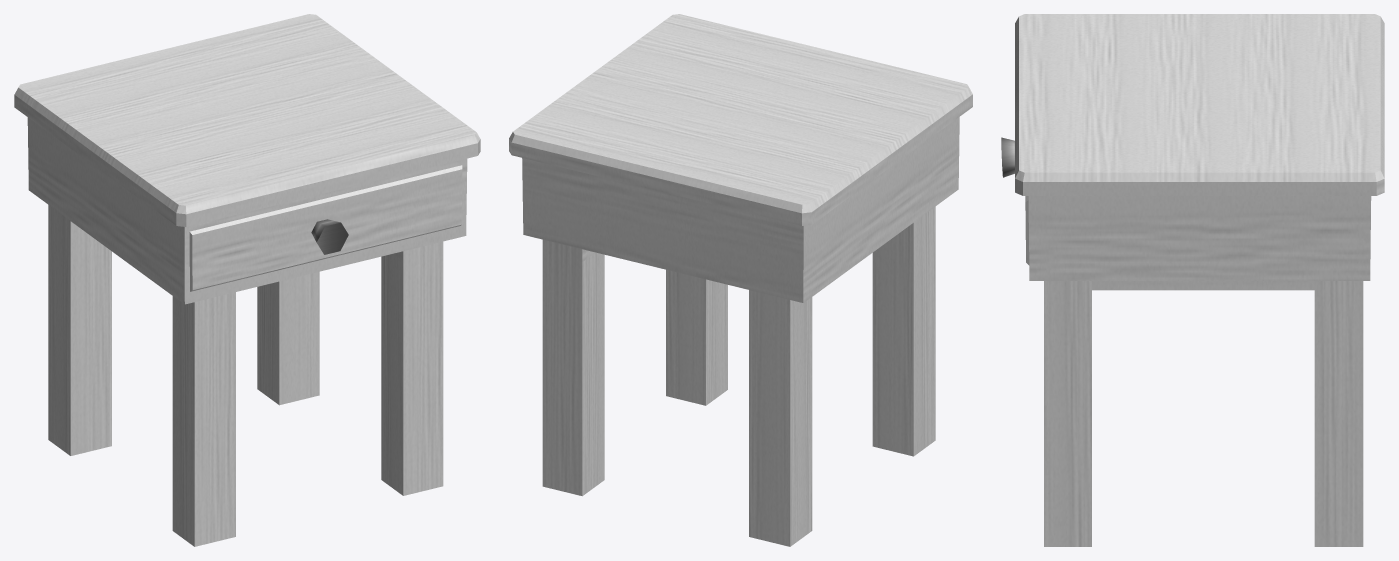
File: Basic_Endtable_B.FBX
3 renders of one model, left to right at view 1: azimuth 30°, elevation 25°; view 2: azimuth 150°, elevation 25°; view 3: azimuth 270°, elevation 25°, orthographic. The views are drawn at different scales.
Parts seen in each view (by area): view 1: End Table; view 2: End Table; view 3: End Table.
Boxes of the visible parts, x1,y1,x2,y2 form: End Table: (14,14,480,546); End Table: (509,14,972,546); End Table: (1001,14,1384,546).
Bounding box in the file's own units: 88.66 × 98.76 × 88.61.
